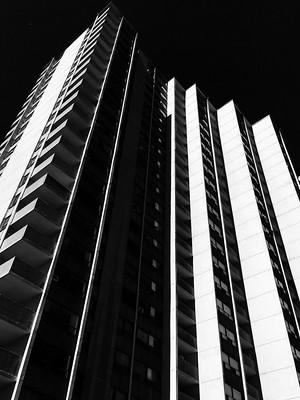building: (3, 6, 300, 400)
